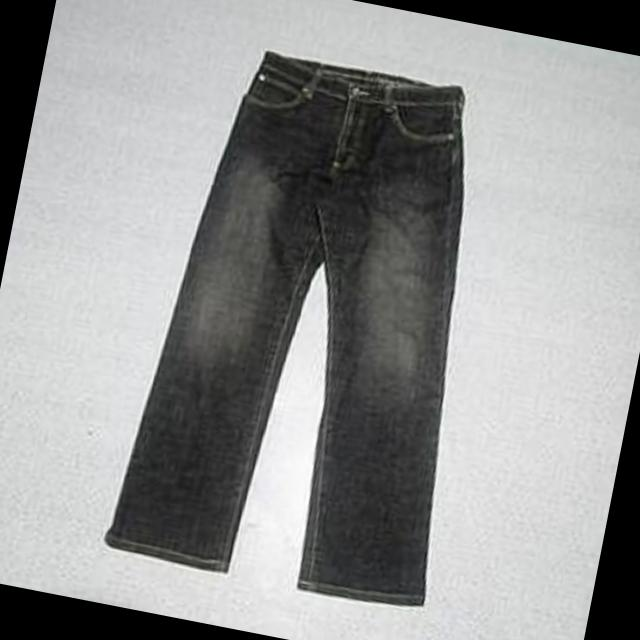TROUSER: (96, 24, 548, 626)
